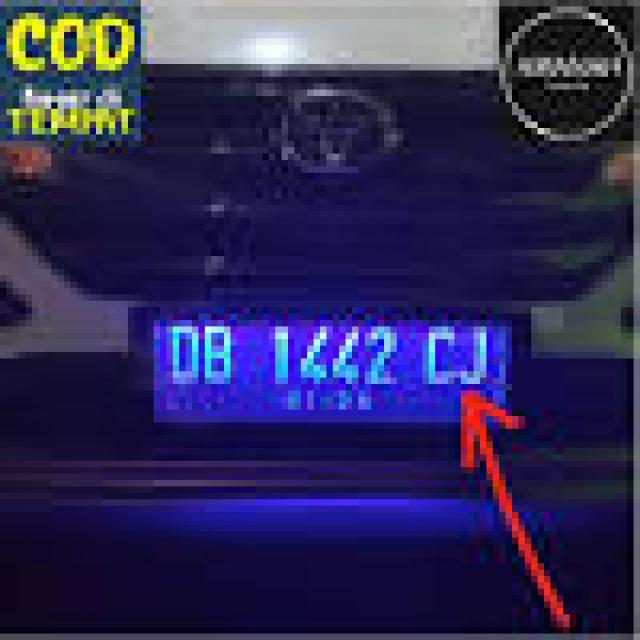lisence-plate: (121, 305, 544, 471)
